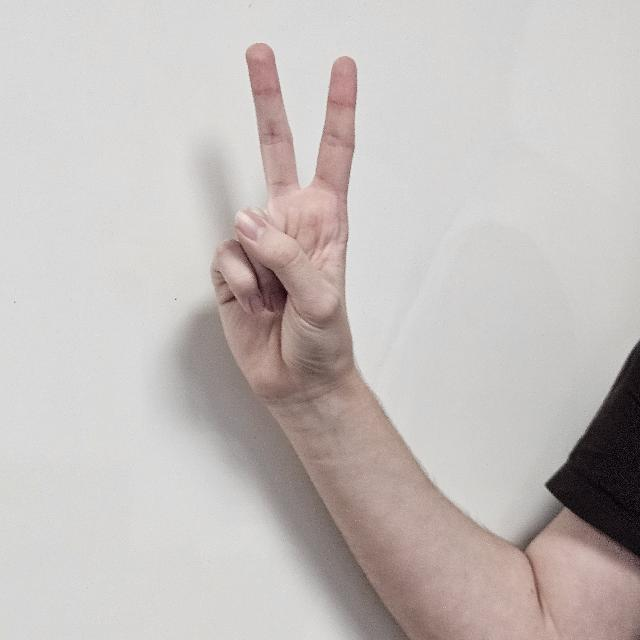Triangulo: (198, 41, 362, 515)
